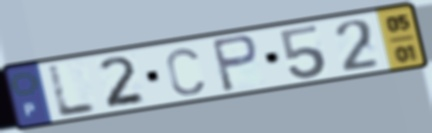2: (333, 18, 382, 75), (100, 54, 149, 111)
5: (279, 23, 330, 81)
C: (163, 46, 207, 99)
L: (46, 62, 101, 120)
P: (208, 33, 261, 94)
